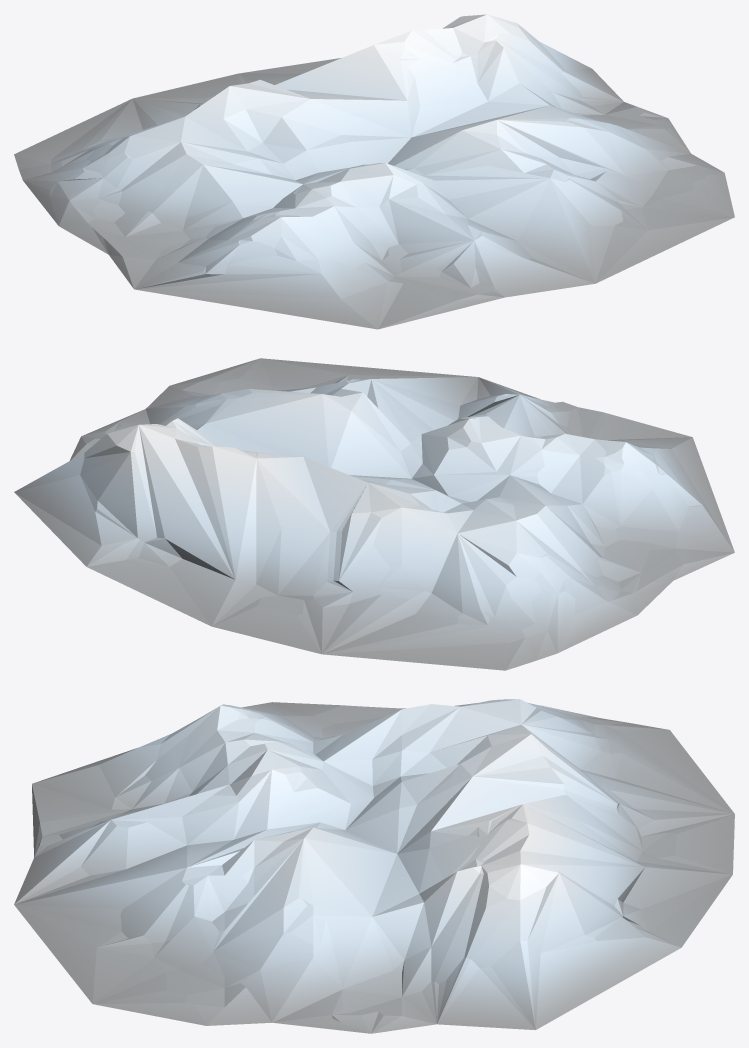
File: Snowy_Mountains_004.FBX
3 renders of one model, top to bottom at view 1: azimuth 30°, elevation 25°; view 2: azimuth 150°, elevation 25°; view 3: azimuth 270°, elevation 25°, orthographic. The views are drawn at different scales.
Visible parts, largest first — view 1: Snowy_Mountains_004; view 2: Snowy_Mountains_004; view 3: Snowy_Mountains_004.
Boxes of the visible parts, x1=… form: Snowy_Mountains_004: x1=14, y1=14, x2=734, y2=329; Snowy_Mountains_004: x1=14, y1=358, x2=734, y2=670; Snowy_Mountains_004: x1=14, y1=699, x2=734, y2=1033.
Size of the model in its own units: 1023 by 146 by 939.
Materials: 1 (1 with a texture image).
